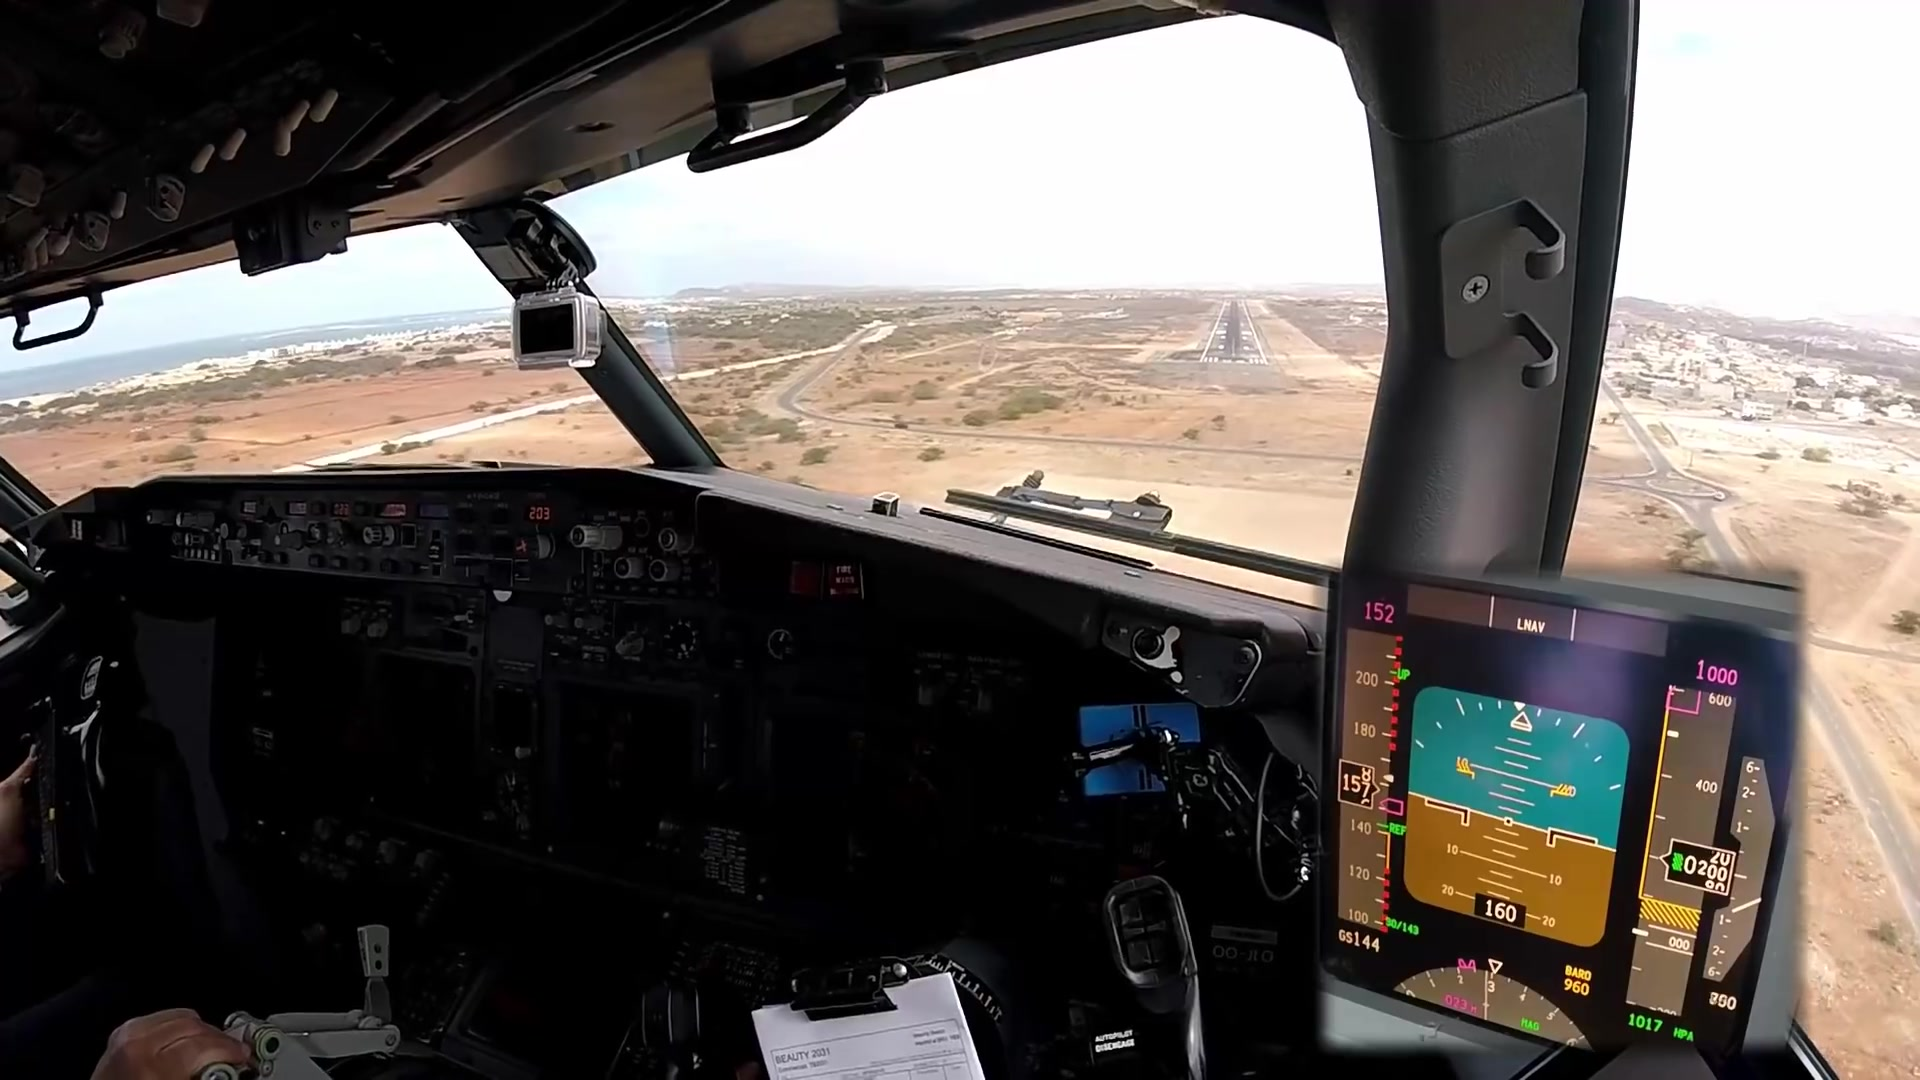entrance: (1203, 356, 1266, 367)
runway: (1199, 301, 1269, 368)
